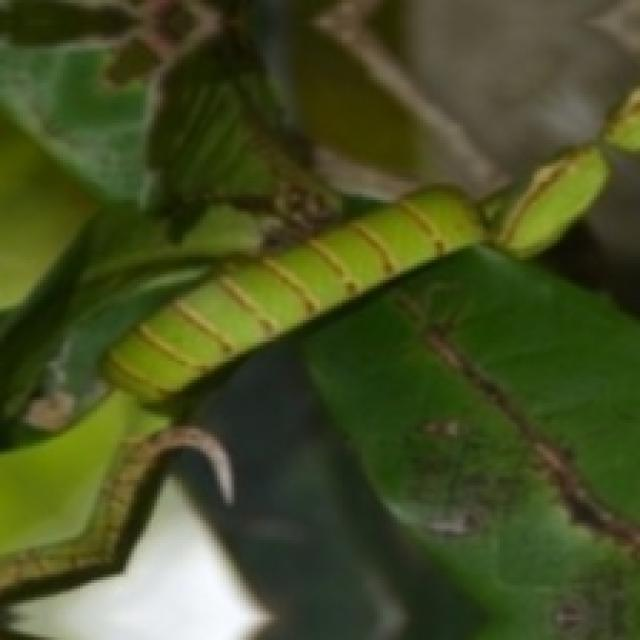north ph temple pitviper: (0, 97, 637, 637)
